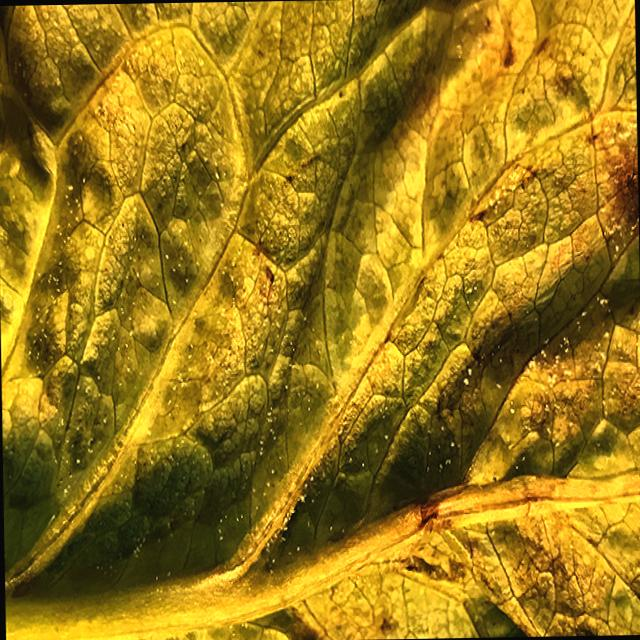Downy_Mildew: (543, 337, 609, 379), (597, 294, 616, 326)
